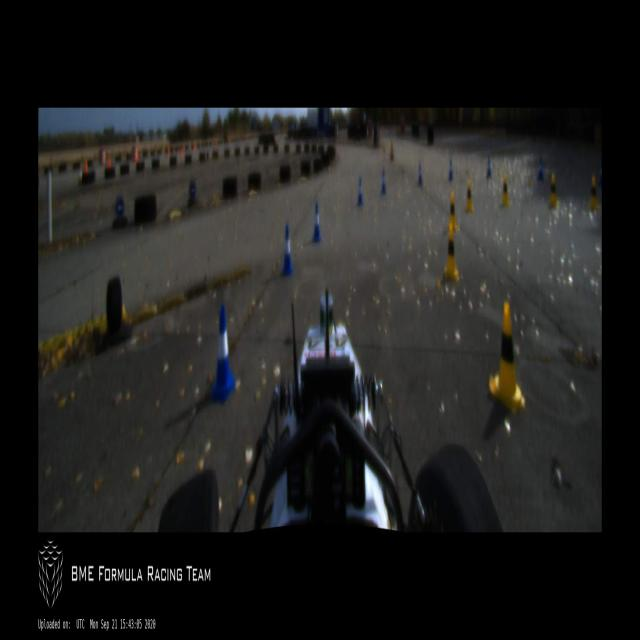blue_cone: (208, 304, 237, 404), (281, 224, 293, 274), (311, 203, 321, 240), (356, 177, 364, 205), (380, 169, 387, 194), (486, 154, 492, 178), (537, 157, 543, 180), (418, 162, 423, 185), (448, 158, 453, 180)
yellow_cone: (492, 300, 523, 414), (444, 228, 458, 280), (587, 175, 599, 213), (448, 192, 458, 232), (548, 172, 558, 208), (465, 180, 473, 211), (501, 176, 509, 207)
